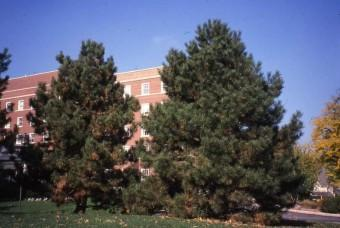tree: (139, 15, 315, 212), (29, 39, 137, 217)
